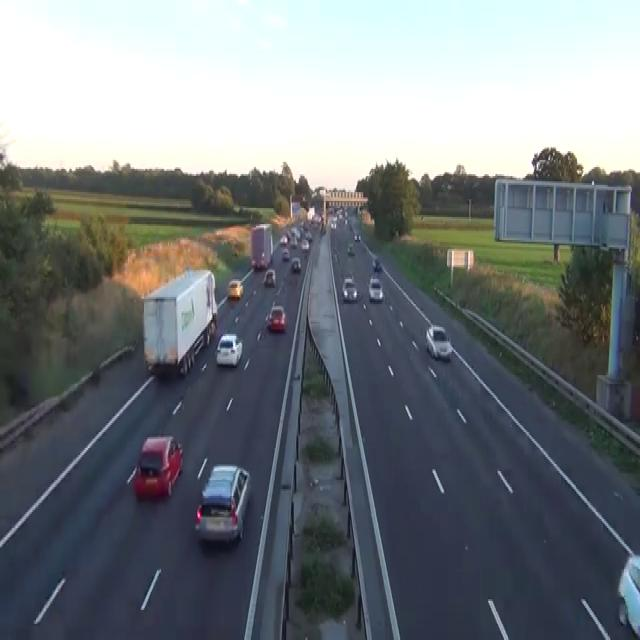Car: (194, 462, 250, 544), (133, 434, 183, 499), (617, 553, 639, 638), (279, 218, 312, 274), (425, 323, 452, 361), (215, 332, 242, 367), (266, 304, 286, 331), (341, 278, 359, 302), (367, 276, 383, 300), (227, 277, 243, 299), (263, 268, 275, 286), (251, 256, 266, 270), (291, 256, 301, 272), (311, 213, 321, 224), (372, 258, 381, 270), (301, 238, 309, 251), (346, 242, 354, 254), (279, 233, 287, 245), (282, 247, 289, 260), (251, 258, 257, 270), (290, 237, 297, 247), (305, 231, 312, 240), (330, 220, 336, 230), (354, 233, 360, 242), (320, 224, 326, 233), (344, 217, 347, 224)
Truck: (141, 267, 217, 377), (250, 222, 273, 270)
